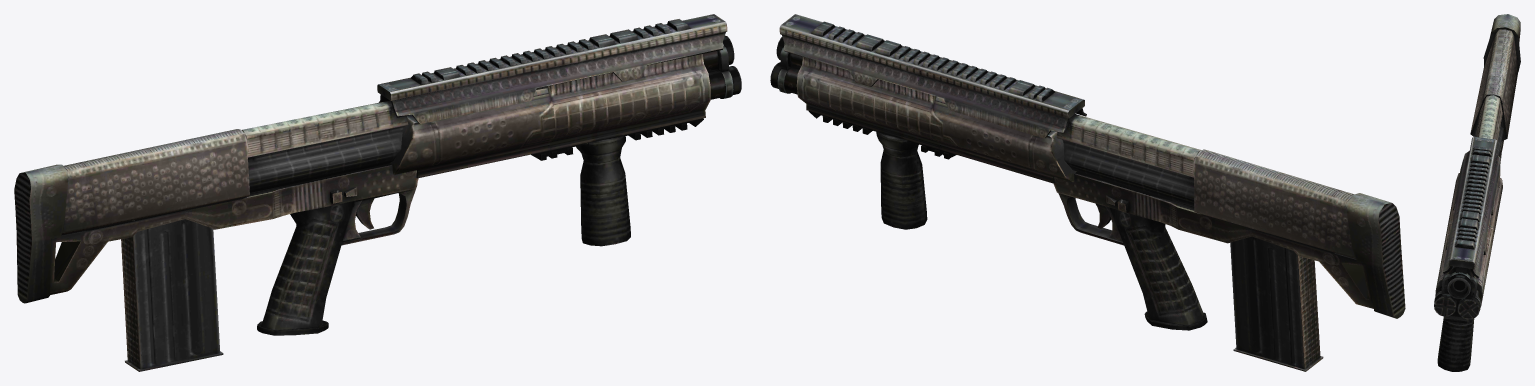
File: Weapon_2009.fbx
3 renders of one model, left to right at view 1: azimuth 30°, elevation 25°; view 2: azimuth 150°, elevation 25°; view 3: azimuth 270°, elevation 25°, orthographic. The views are drawn at different scales.
Visible parts, largest first — view 1: Kel_Tec_KSG, Kel_Tec_KSG_fore_end, Kel_Tec_KSG_magazine; view 2: Kel_Tec_KSG, Kel_Tec_KSG_fore_end, Kel_Tec_KSG_magazine; view 3: Kel_Tec_KSG, Kel_Tec_KSG_fore_end.
Part boxes in pixels (<box>): Kel_Tec_KSG: <box>14,14,741,335</box>; Kel_Tec_KSG_fore_end: <box>389,54,710,246</box>; Kel_Tec_KSG_magazine: <box>121,219,223,371</box>; Kel_Tec_KSG: <box>770,14,1405,330</box>; Kel_Tec_KSG_fore_end: <box>796,57,1076,229</box>; Kel_Tec_KSG_magazine: <box>1230,236,1323,371</box>; Kel_Tec_KSG: <box>1434,14,1520,319</box>; Kel_Tec_KSG_fore_end: <box>1435,173,1502,371</box>.
Size of the model in its own units: 117 by 36.88 by 16.29.
